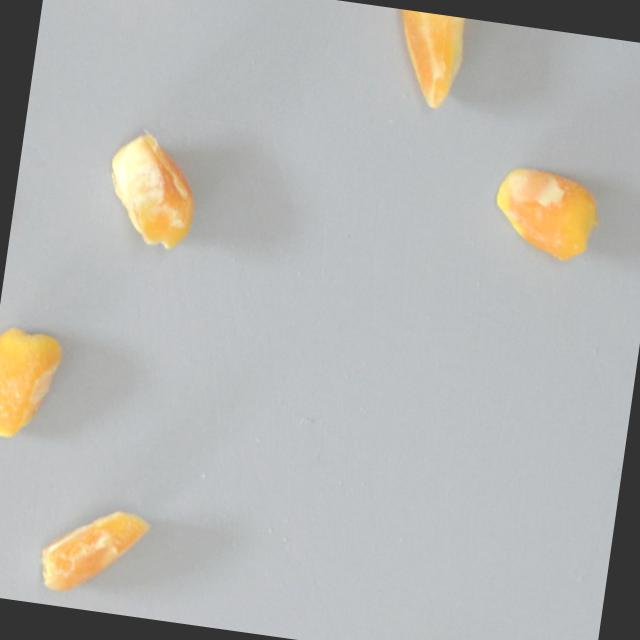pelicula: (98, 124, 208, 255), (486, 159, 607, 265), (37, 498, 154, 603), (385, 9, 470, 114), (0, 322, 66, 445)
